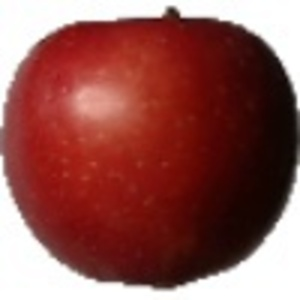maçã braeburn: (1, 17, 299, 286)
